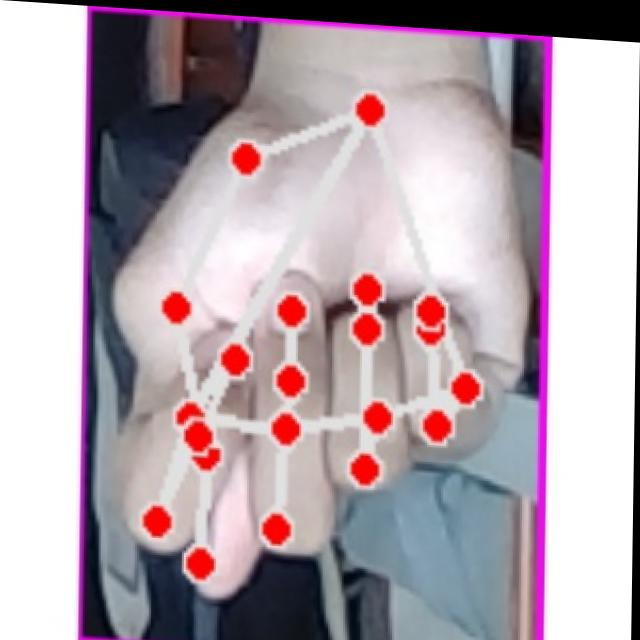T: (105, 59, 541, 633)
